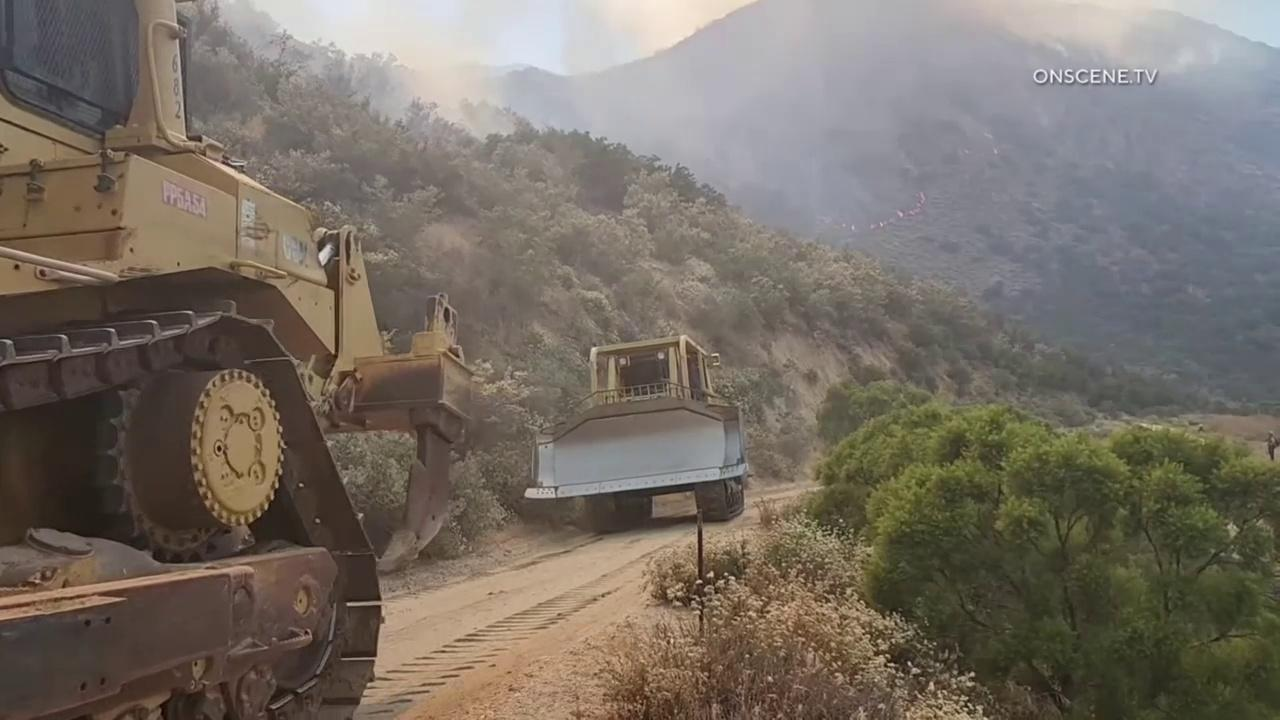fire: (906, 190, 927, 216), (894, 209, 904, 220), (849, 224, 857, 231), (993, 147, 999, 156), (870, 224, 876, 232), (879, 221, 885, 229), (963, 148, 969, 156), (841, 223, 847, 228)
smoke: (189, 0, 1280, 268)
